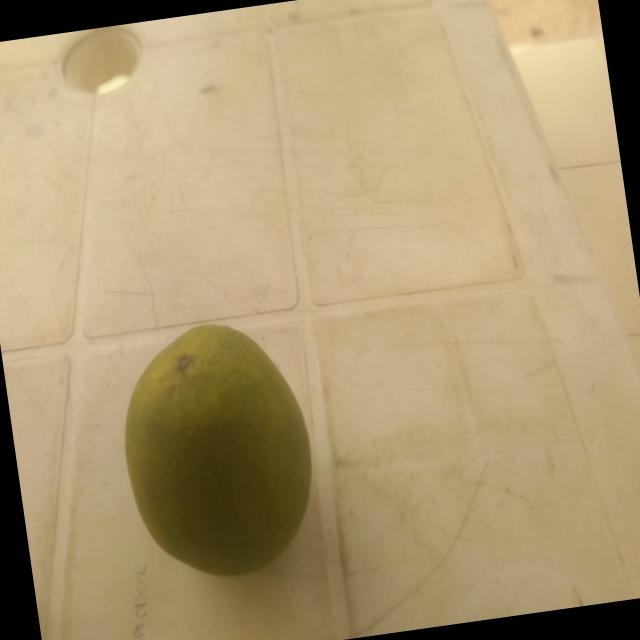agrume: (77, 287, 343, 611)
